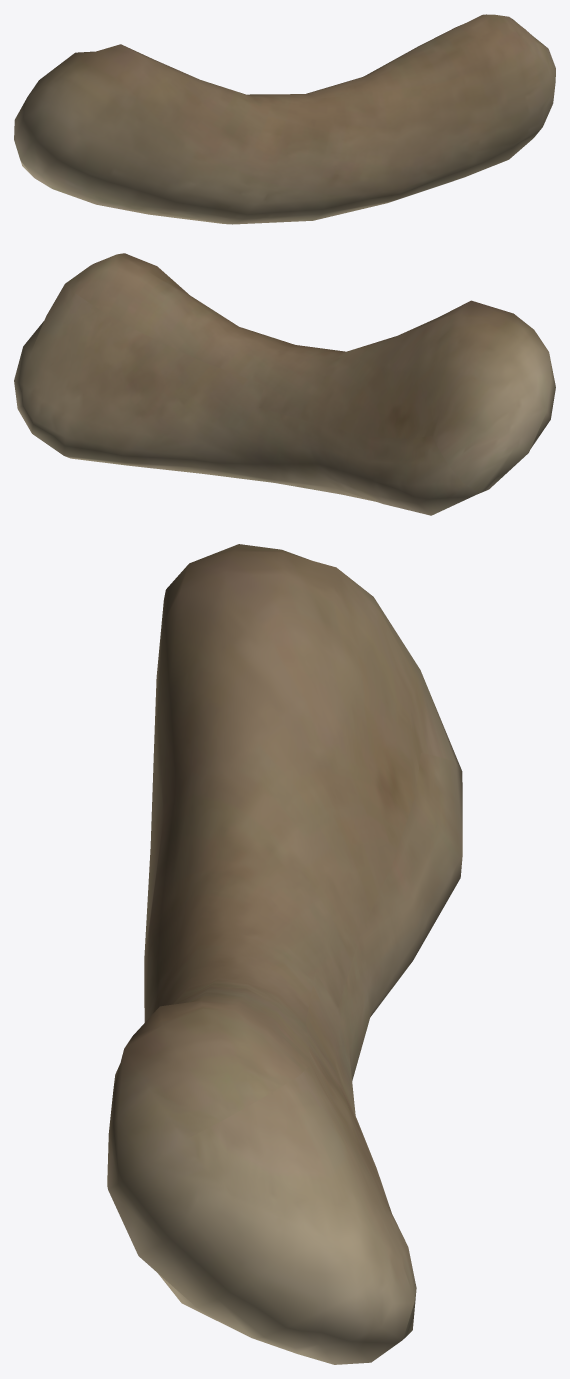
The model's file is Basihyoid.glb.
The picture shows the model from 3 angles, top to bottom: view 1: azimuth 30°, elevation 25°; view 2: azimuth 150°, elevation 25°; view 3: azimuth 270°, elevation 25°; orthographic projection. The views are drawn at different scales.
Visible parts, largest first — view 1: Basihyoid1:Group56925; view 2: Basihyoid1:Group56925; view 3: Basihyoid1:Group56925.
Part boxes in pixels (x1,y1,x2,y2): Basihyoid1:Group56925: (14, 14, 555, 224); Basihyoid1:Group56925: (14, 253, 555, 515); Basihyoid1:Group56925: (107, 544, 462, 1364).
Size of the model in its own units: 18.73 by 7.73 by 5.65.
1 material, 1 textured.
